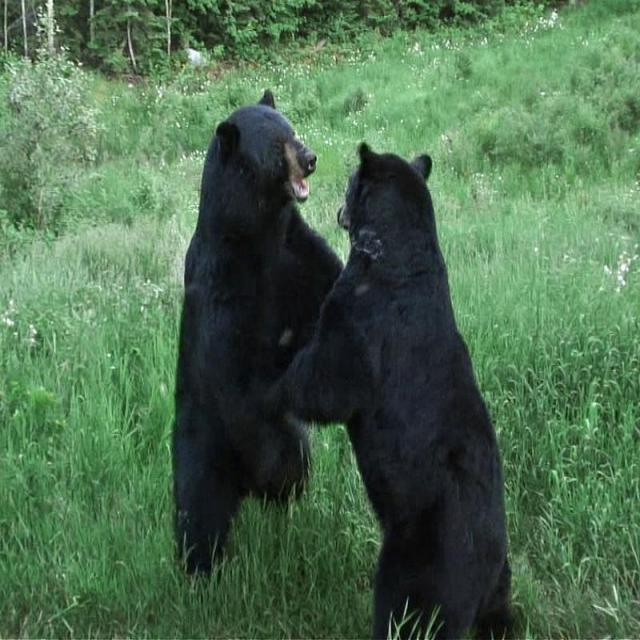Bear: (274, 145, 518, 640), (172, 91, 343, 577)
